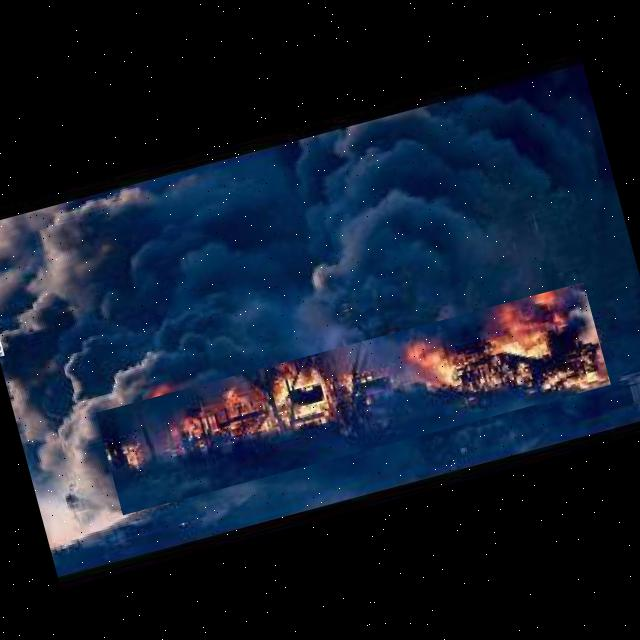fire: (95, 282, 610, 514)
